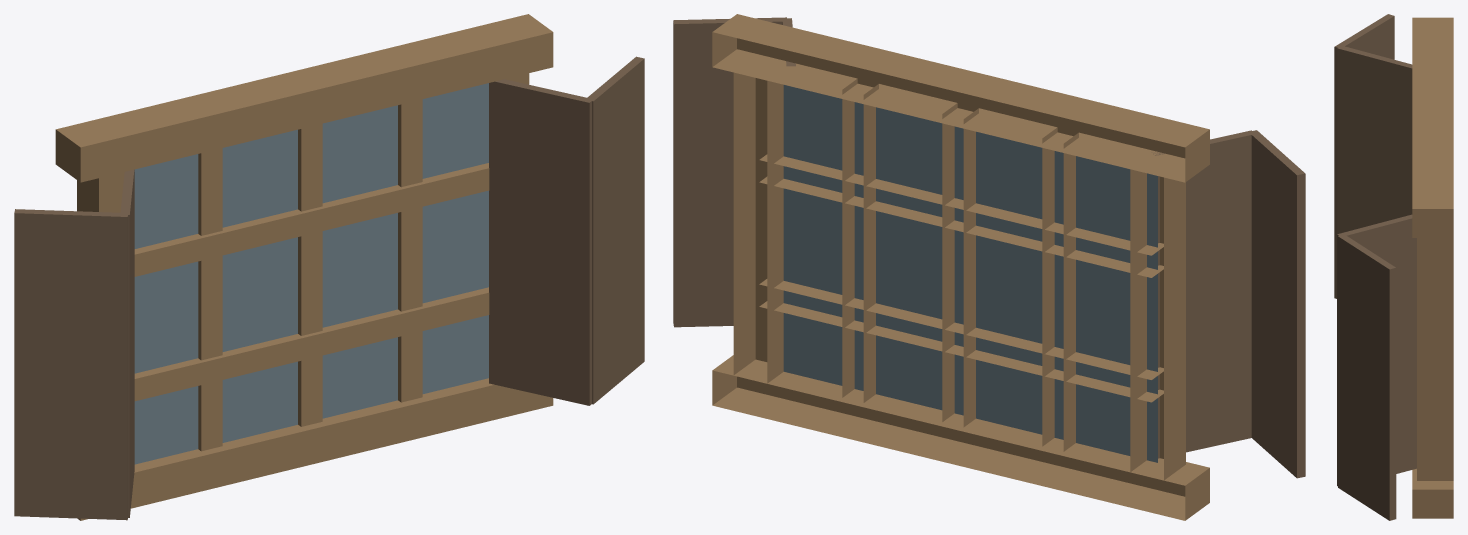
File: House_Window_01.fbx
3 renders of one model, left to right at view 1: azimuth 30°, elevation 25°; view 2: azimuth 150°, elevation 25°; view 3: azimuth 270°, elevation 25°, orthographic. The views are drawn at different scales.
Parts seen in each view (by area): view 1: pCube3289; view 2: pCube3289; view 3: pCube3289.
Part boxes in pixels (bbox=[...]): pCube3289: bbox=[14, 14, 644, 520]; pCube3289: bbox=[673, 14, 1305, 520]; pCube3289: bbox=[1334, 14, 1453, 520].
Bounding box in the file's own units: 3.8 × 2.15 × 0.7476.
